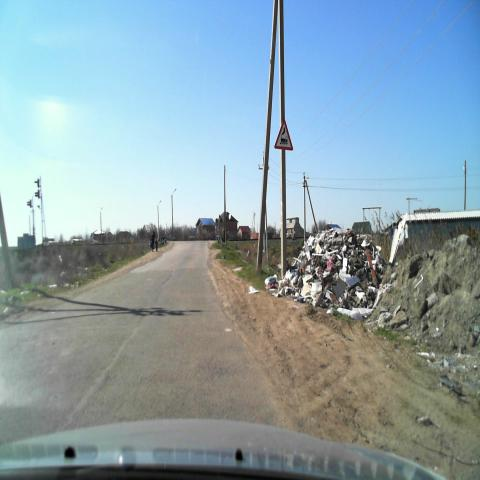1_2: (274, 119, 293, 151)
